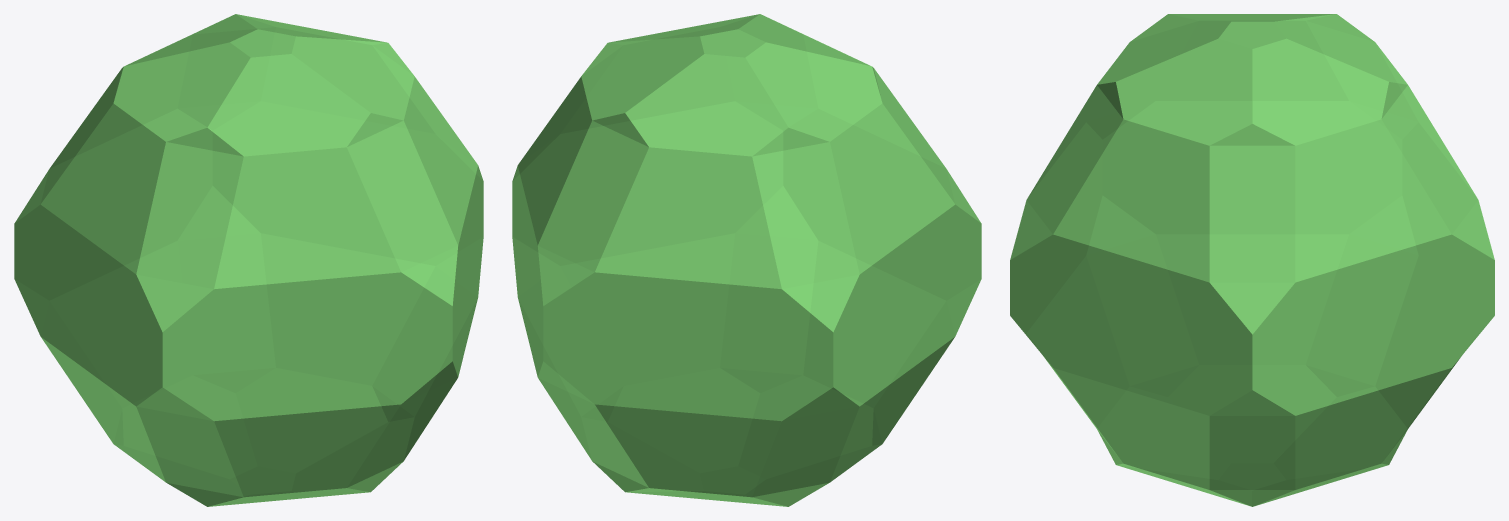
File: GemF.fbx
3 renders of one model, left to right at view 1: azimuth 30°, elevation 25°; view 2: azimuth 150°, elevation 25°; view 3: azimuth 270°, elevation 25°, orthographic.
Parts seen in each view (by area): view 1: GemF; view 2: GemF; view 3: GemF.
Boxes of the visible parts, x1,y1,x2,y2 form: GemF: (14,14,483,506); GemF: (512,14,981,506); GemF: (1010,14,1494,506).
Bounding box in the file's own units: 6.27 × 6.62 × 6.59.
